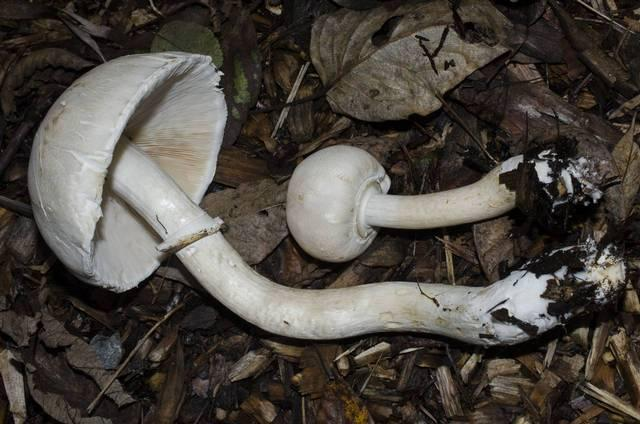poisonous_mushroom: (26, 49, 626, 349), (283, 142, 575, 264)
